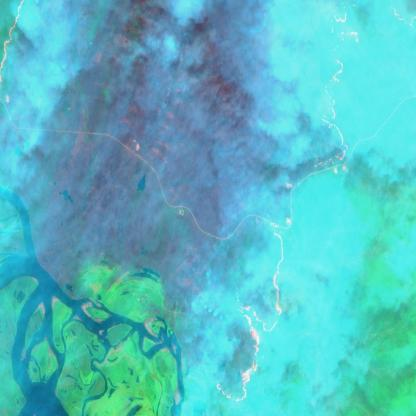fire: (196, 0, 384, 416)
